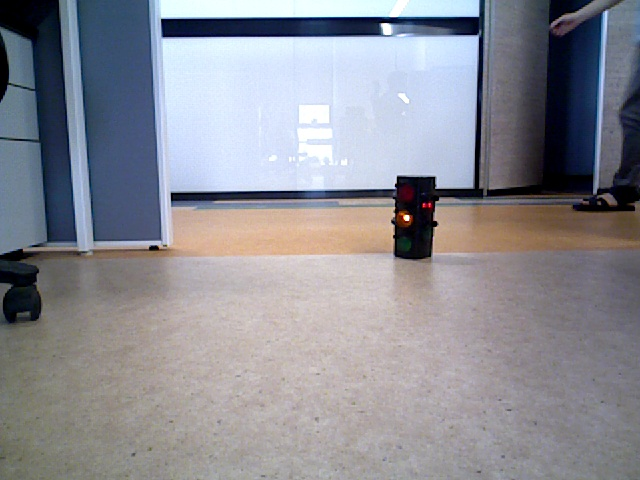yellow: (396, 178, 434, 254)
